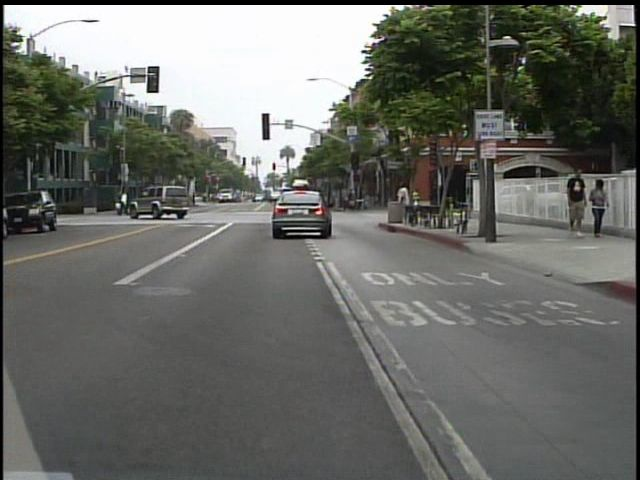person: (564, 164, 591, 242), (587, 173, 613, 241), (395, 177, 418, 225), (119, 187, 135, 220)
